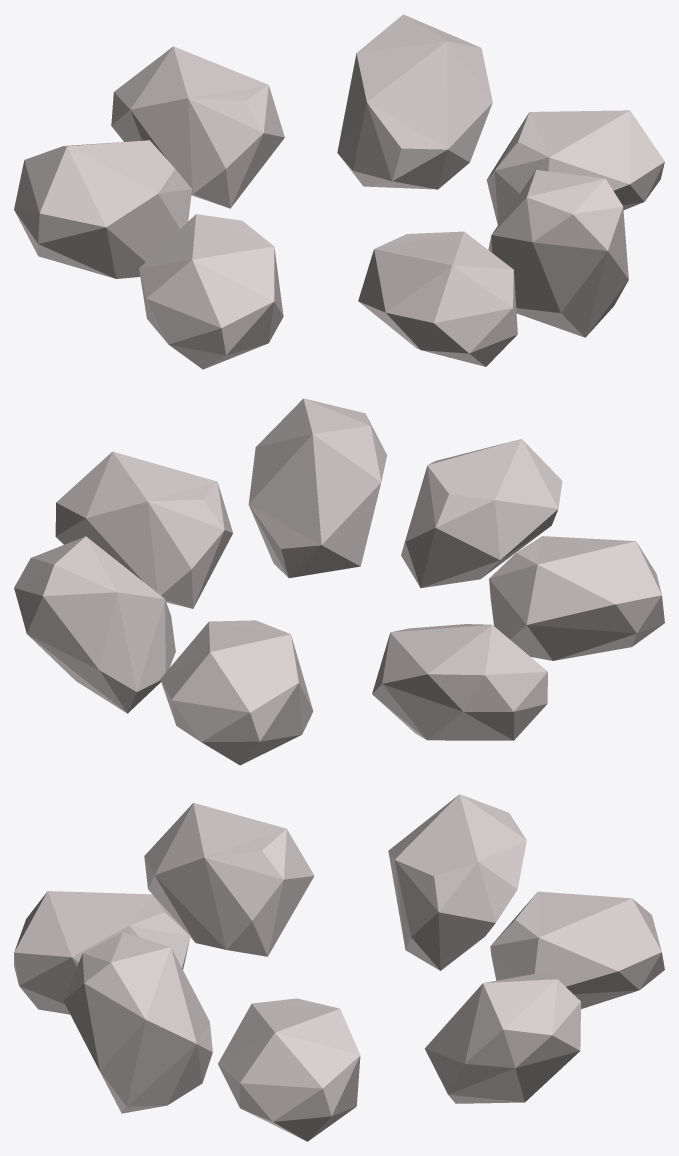
Rendered from CampFire2.fbx.
The picture shows the model from 3 angles, top to bottom: view 1: azimuth 30°, elevation 25°; view 2: azimuth 150°, elevation 25°; view 3: azimuth 270°, elevation 25°; orthographic projection.
Visible parts, largest first — view 1: CampFire2; view 2: CampFire2; view 3: CampFire2.
Part boxes in pixels (box(x1,y1,x2,y2)): CampFire2: box(14, 14, 664, 369); CampFire2: box(14, 398, 664, 765); CampFire2: box(14, 794, 664, 1141).
Bounding box in the file's own units: 3.19 × 0.8912 × 3.32.
